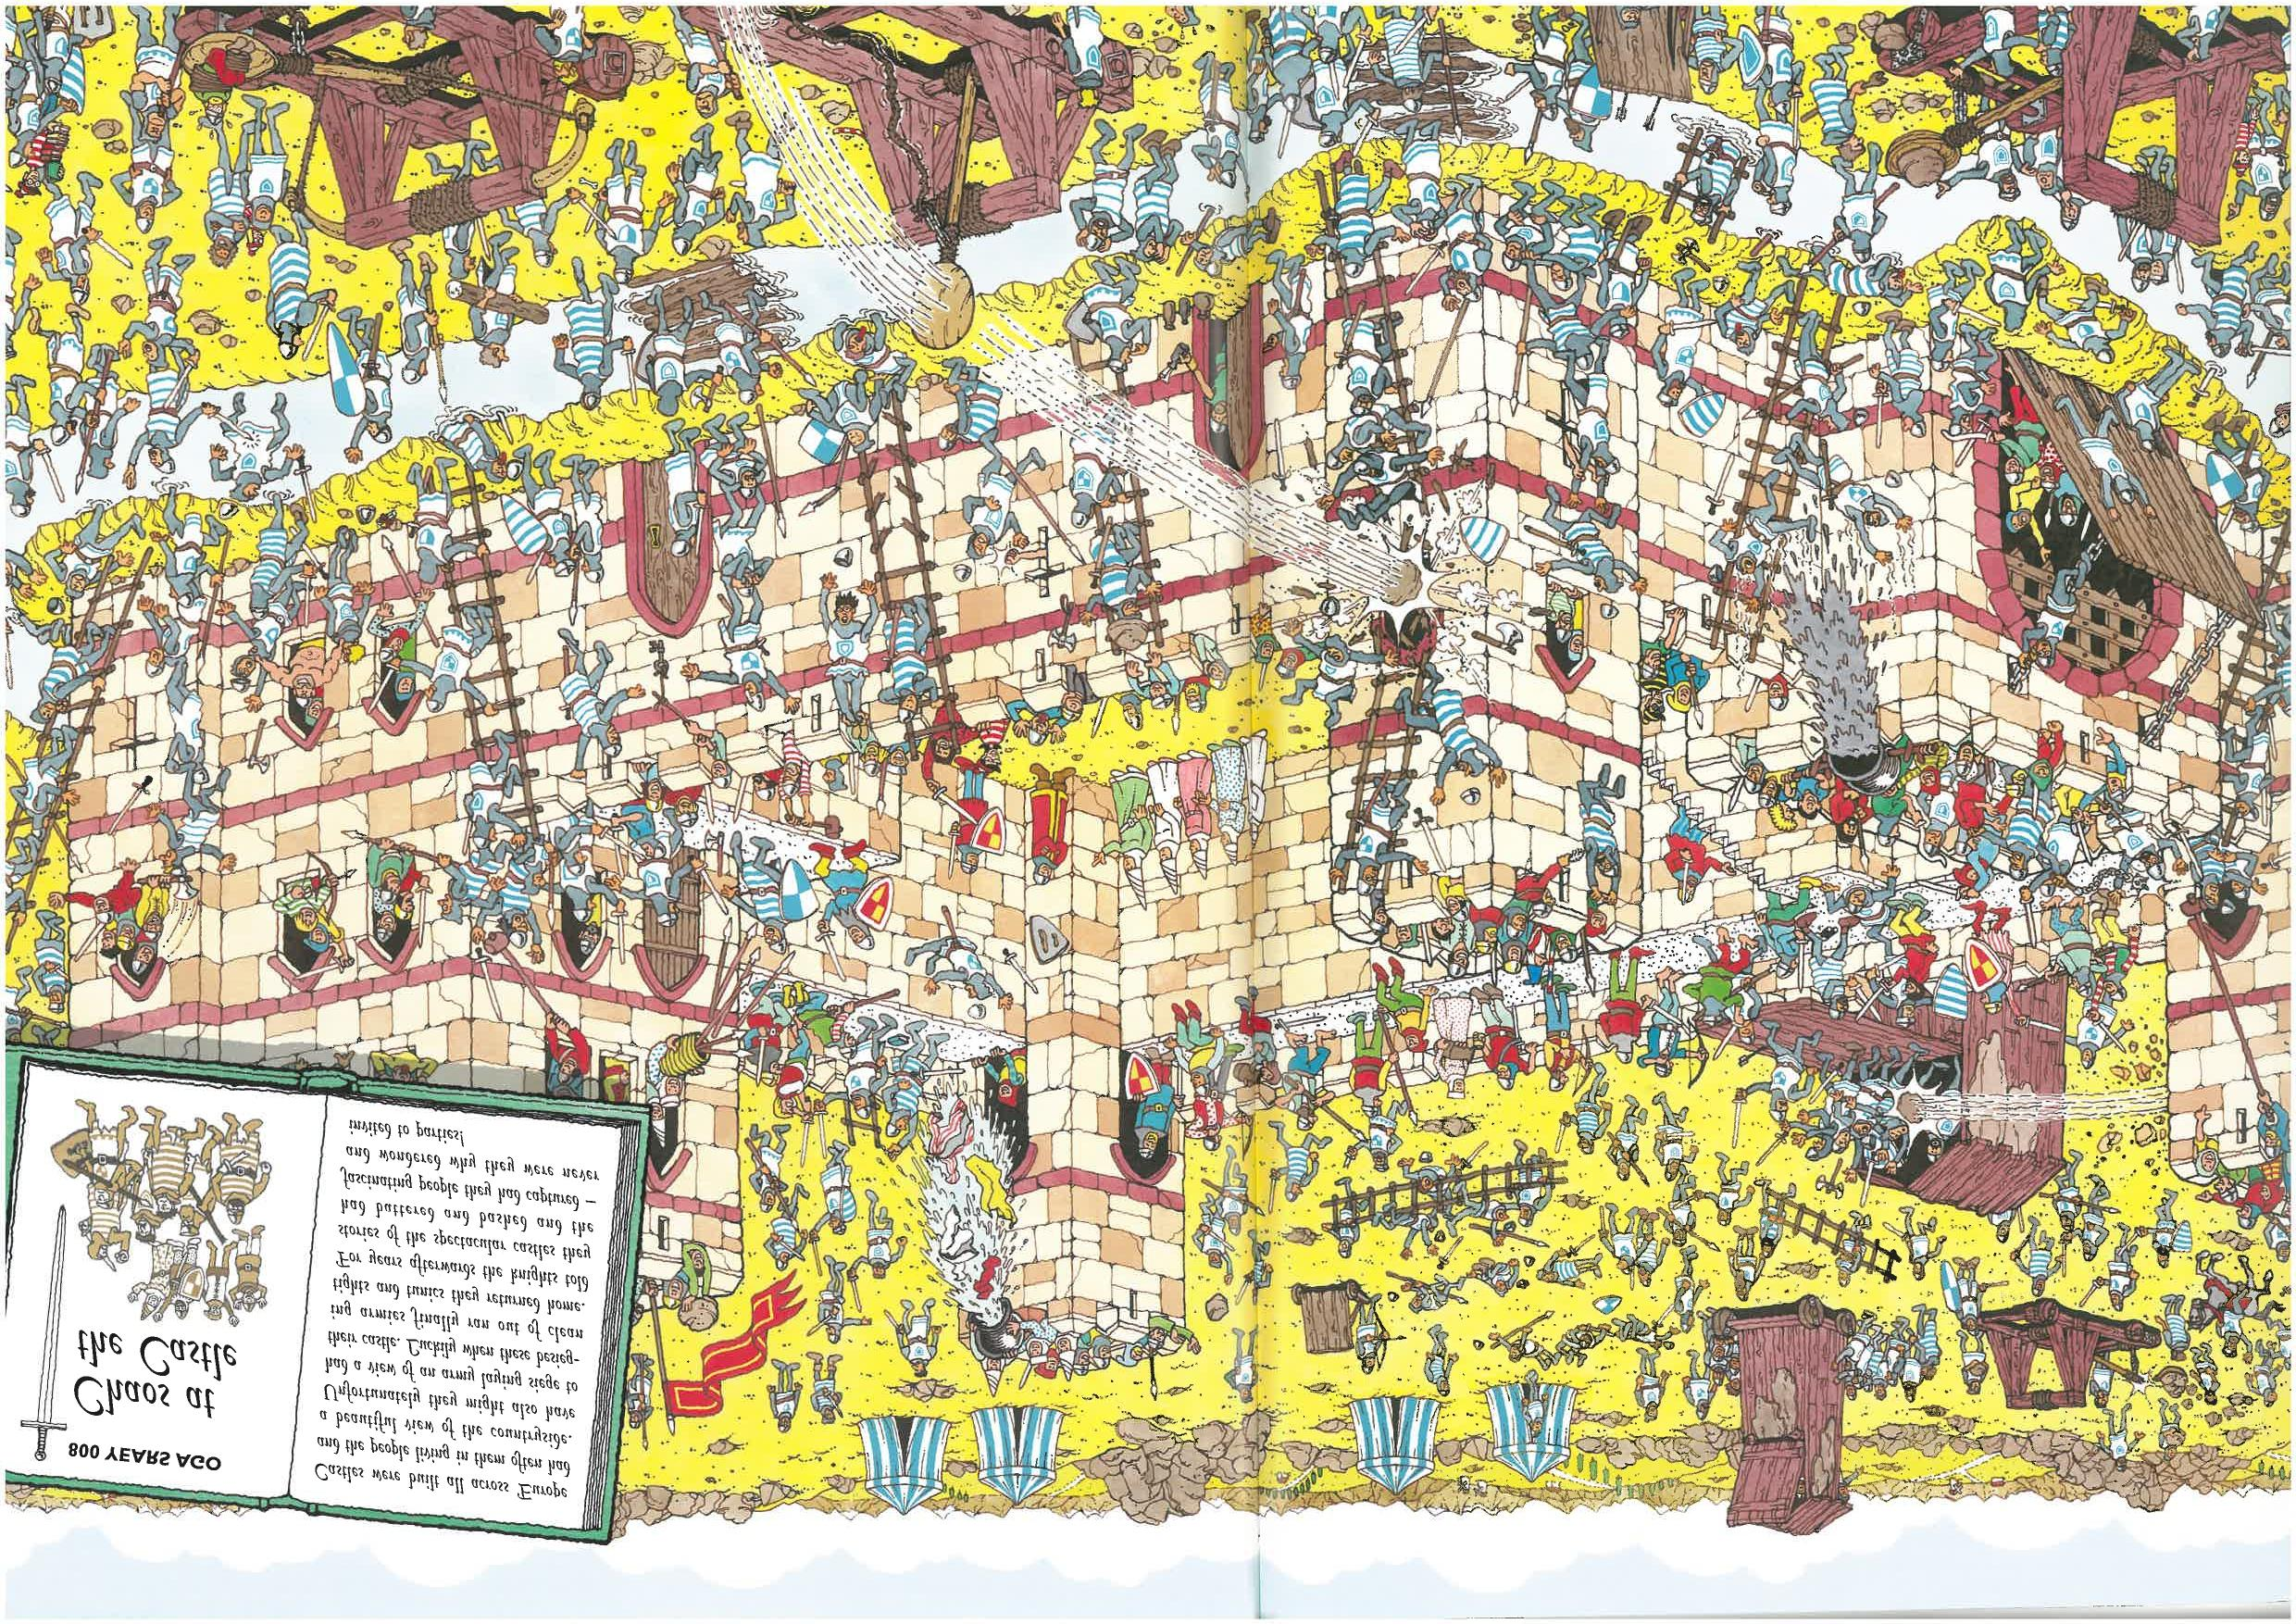waldos: (12, 105, 72, 202)
